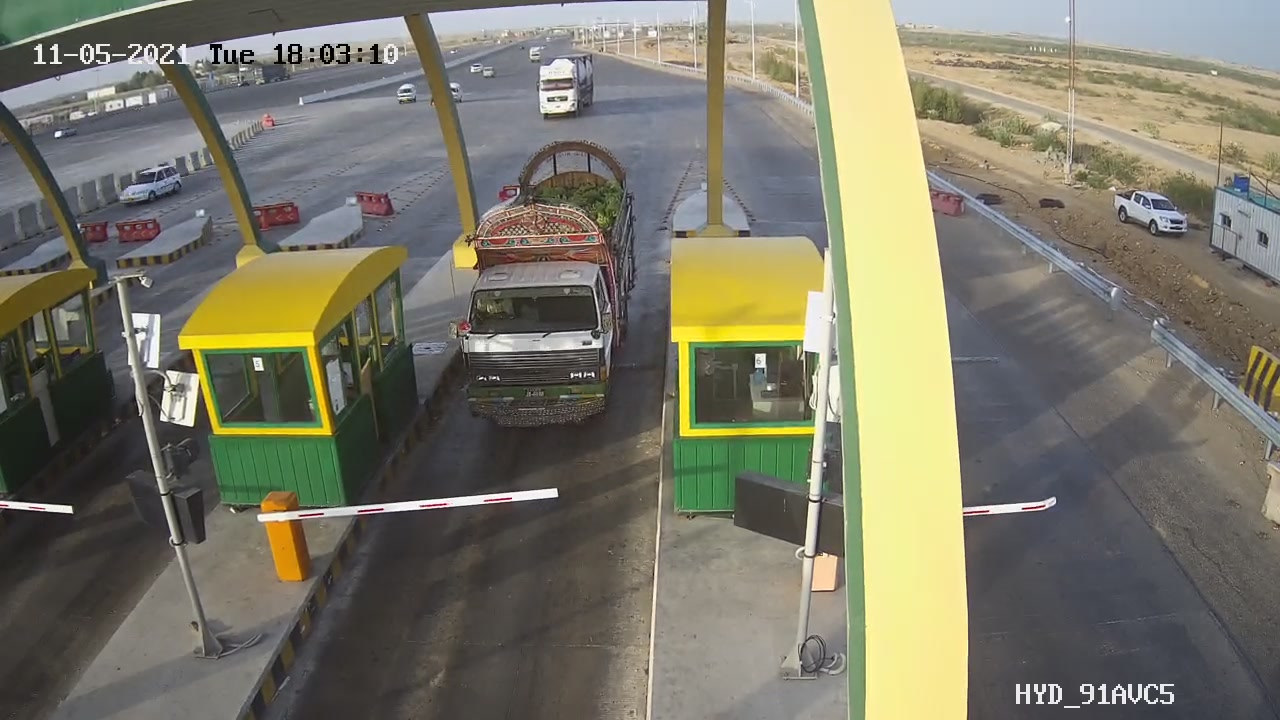F5: (438, 125, 653, 449)
